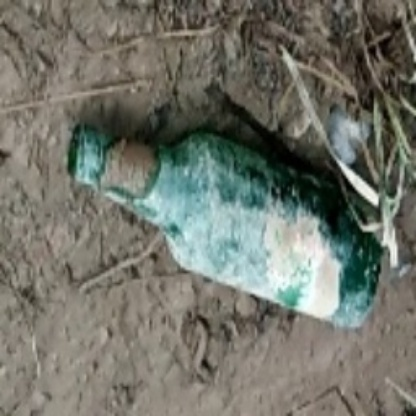bottle: (64, 118, 386, 331)
